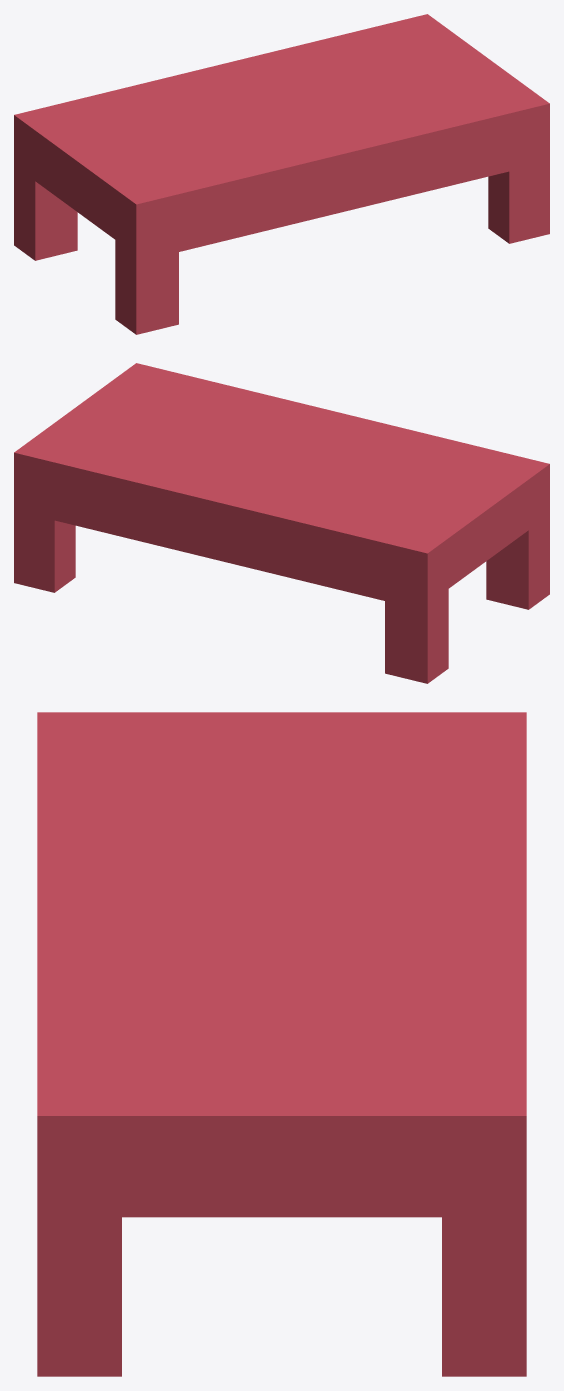
File: Table model.glb
3 renders of one model, top to bottom at view 1: azimuth 30°, elevation 25°; view 2: azimuth 150°, elevation 25°; view 3: azimuth 270°, elevation 25°, orthographic. The views are drawn at different scales.
Visible parts, largest first — view 1: Mesh_Mesh_head_geo.001_lambert2SG.001; view 2: Mesh_Mesh_head_geo.001_lambert2SG.001; view 3: Mesh_Mesh_head_geo.001_lambert2SG.001.
Part boxes in pixels (x1,y1,x2,y2): Mesh_Mesh_head_geo.001_lambert2SG.001: (14, 14, 549, 334); Mesh_Mesh_head_geo.001_lambert2SG.001: (14, 363, 549, 683); Mesh_Mesh_head_geo.001_lambert2SG.001: (37, 712, 526, 1376).
Bounding box in the file's own units: 119 × 36 × 61.23.
